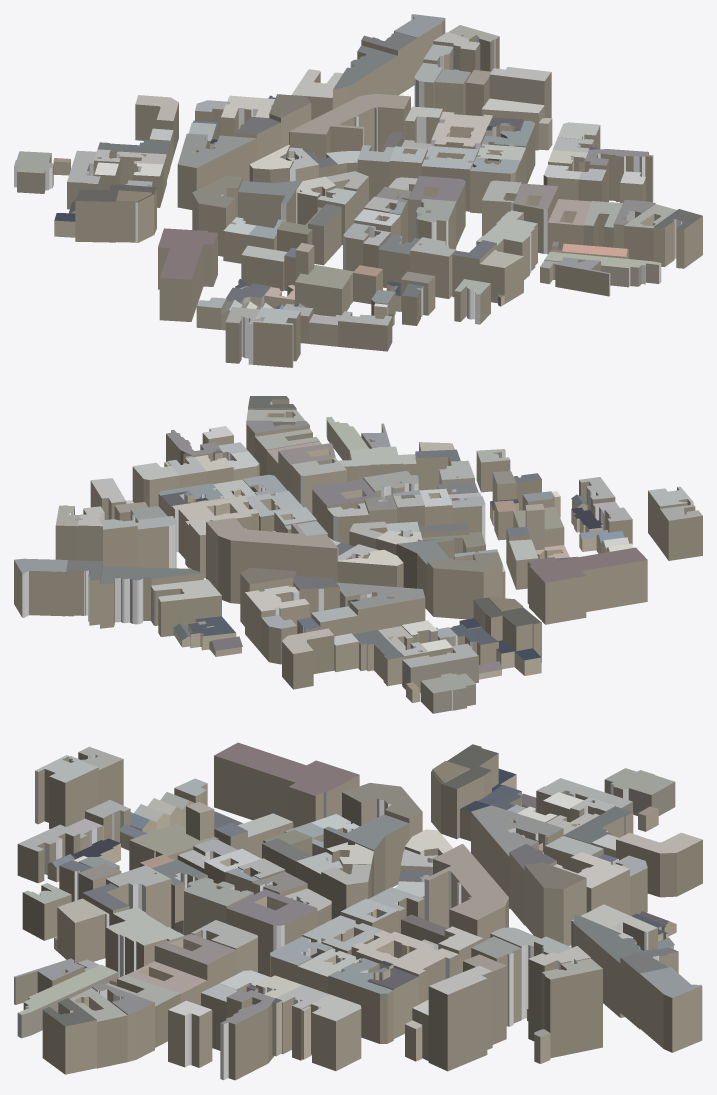
The picture shows the model from 3 angles, top to bottom: view 1: azimuth 30°, elevation 25°; view 2: azimuth 150°, elevation 25°; view 3: azimuth 270°, elevation 25°; orthographic projection. The views are drawn at different scales.
Parts seen in each view (by area): view 1: tuile; view 2: tuile; view 3: tuile.
Boxes of the visible parts, x1,y1,x2,y2 form: tuile: (14, 14, 702, 367); tuile: (14, 396, 702, 713); tuile: (14, 742, 702, 1080).
Size of the model in its own units: 275 by 42.74 by 274.
